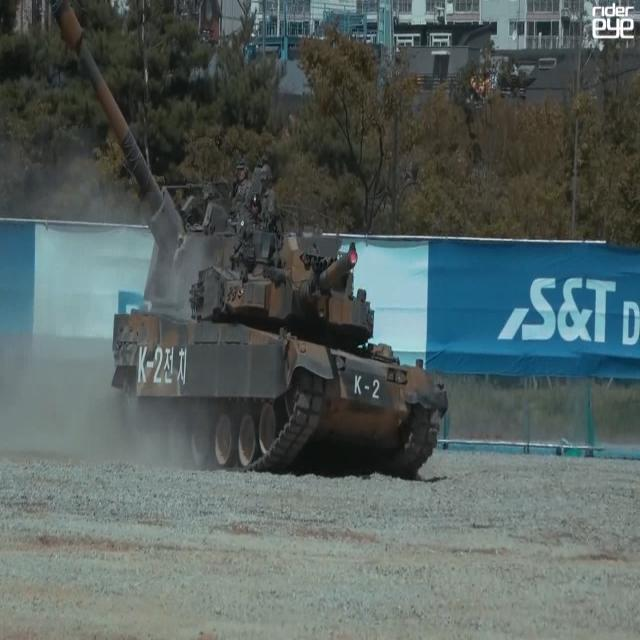korea tank: (110, 190, 450, 474)
